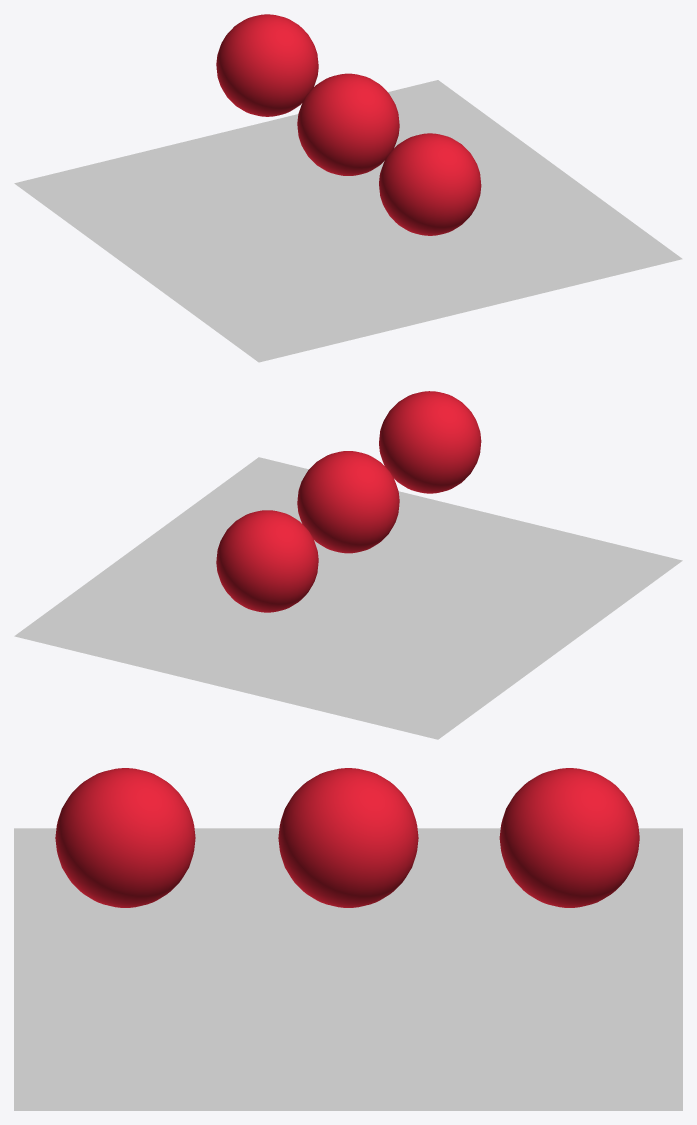
3 renders of one model, top to bottom at view 1: azimuth 30°, elevation 25°; view 2: azimuth 150°, elevation 25°; view 3: azimuth 270°, elevation 25°, orthographic. The views are drawn at different scales.
Visible parts, largest first — view 1: Plane, Sphere.002; view 2: Plane, Sphere.002; view 3: Plane, Sphere.002.
Part boxes in pixels (x1,y1,x2,y2): Plane: (14,80,682,362); Sphere.002: (216,14,481,235); Plane: (14,457,682,739); Sphere.002: (216,391,481,612); Plane: (14,828,682,1110); Sphere.002: (55,768,639,907).
Size of the model in its own units: 9.54 by 3.07 by 9.54.
